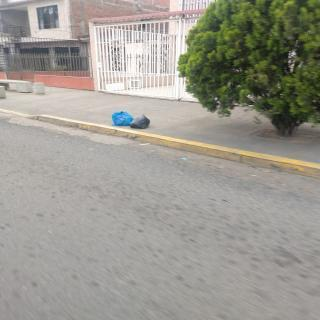Garbage: (110, 109, 135, 128), (130, 115, 153, 129)
